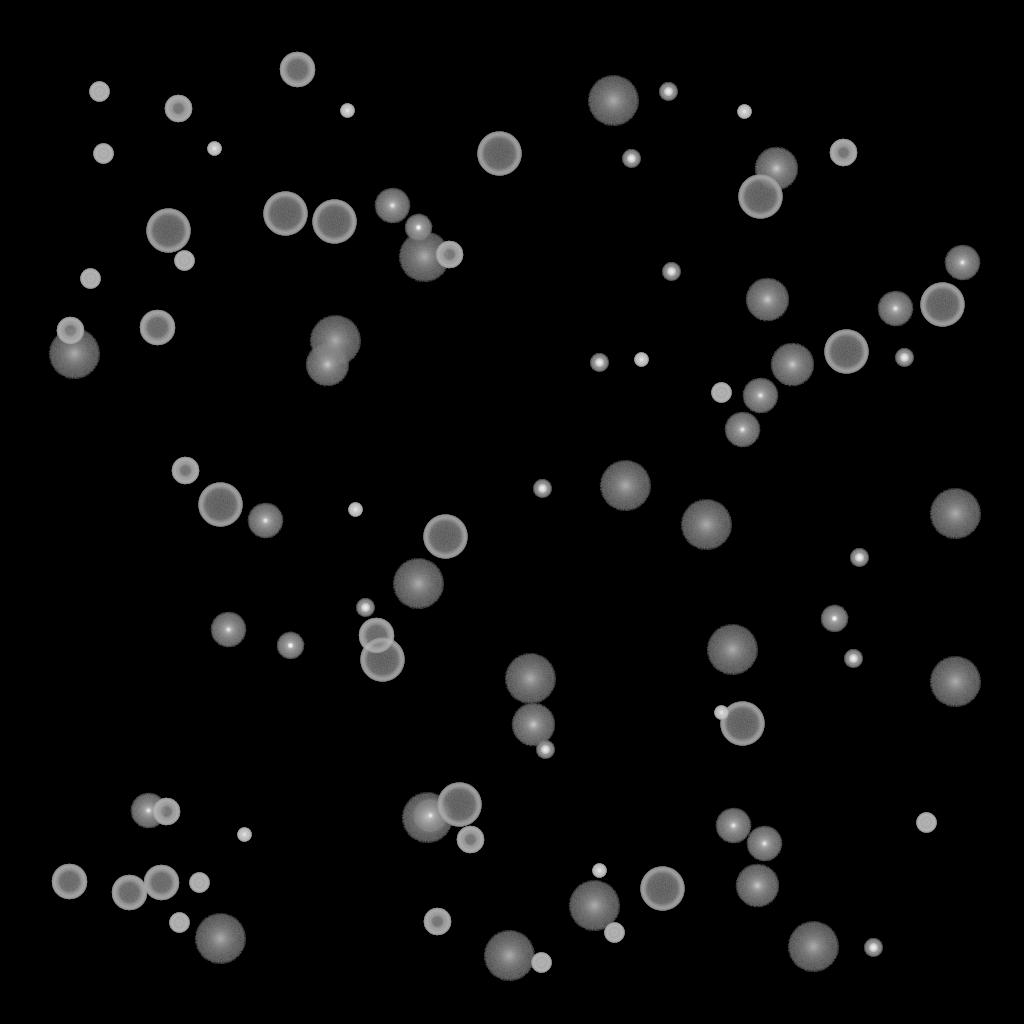depth:-10: (404, 214, 432, 242), (276, 632, 304, 660), (820, 605, 848, 633)
depth:-20: (622, 150, 640, 168), (662, 263, 680, 281), (536, 741, 554, 759), (533, 480, 551, 498), (895, 349, 913, 367), (590, 354, 608, 372), (356, 599, 374, 617), (850, 549, 868, 567), (844, 650, 862, 668), (864, 939, 882, 957), (659, 83, 677, 101)
depth:-30: (207, 142, 221, 156), (634, 353, 648, 367), (348, 503, 362, 517), (340, 104, 354, 118), (592, 864, 606, 878), (737, 105, 751, 119), (714, 706, 728, 720), (237, 828, 251, 842)
depth:-40: (531, 953, 551, 973), (93, 144, 113, 164), (80, 269, 100, 289), (916, 813, 936, 833), (174, 251, 194, 271), (169, 913, 189, 933), (89, 82, 109, 102), (604, 923, 624, 943), (711, 383, 731, 403), (189, 873, 209, 893)
depth:-50: (456, 826, 484, 854), (171, 457, 199, 485), (152, 798, 180, 826), (164, 95, 192, 123), (829, 139, 857, 167), (423, 908, 451, 936), (435, 241, 463, 269), (56, 317, 84, 345)
depth:-60: (143, 865, 179, 901), (358, 618, 394, 654), (51, 864, 87, 900), (139, 310, 175, 346), (279, 52, 315, 88), (111, 875, 147, 911)
depth:-70: (312, 200, 356, 244), (146, 209, 190, 253), (198, 483, 242, 527), (423, 515, 467, 559), (477, 132, 521, 176), (920, 283, 964, 327), (738, 175, 782, 219), (640, 867, 684, 911), (263, 192, 307, 236), (824, 330, 868, 374), (360, 638, 404, 682), (437, 783, 481, 827), (720, 702, 764, 746)
depth:0: (412, 798, 448, 834), (742, 378, 778, 414), (877, 291, 913, 327), (247, 503, 283, 539), (374, 188, 410, 224), (746, 826, 782, 862), (210, 612, 246, 648), (130, 793, 166, 829), (715, 808, 751, 844), (724, 412, 760, 448), (944, 245, 980, 281)
depth:10: (770, 343, 814, 387), (511, 703, 555, 747), (745, 278, 789, 322), (735, 864, 779, 908), (754, 147, 798, 191), (305, 343, 349, 387)
depth:20: (194, 914, 246, 964), (787, 922, 839, 972), (483, 931, 535, 981), (309, 316, 361, 366), (48, 329, 100, 379), (599, 461, 651, 511), (587, 76, 639, 126), (706, 625, 758, 675), (392, 559, 444, 609), (401, 793, 453, 843), (929, 657, 981, 707), (398, 232, 450, 282), (568, 881, 620, 931), (929, 489, 981, 539), (680, 500, 732, 550), (504, 654, 556, 704)
